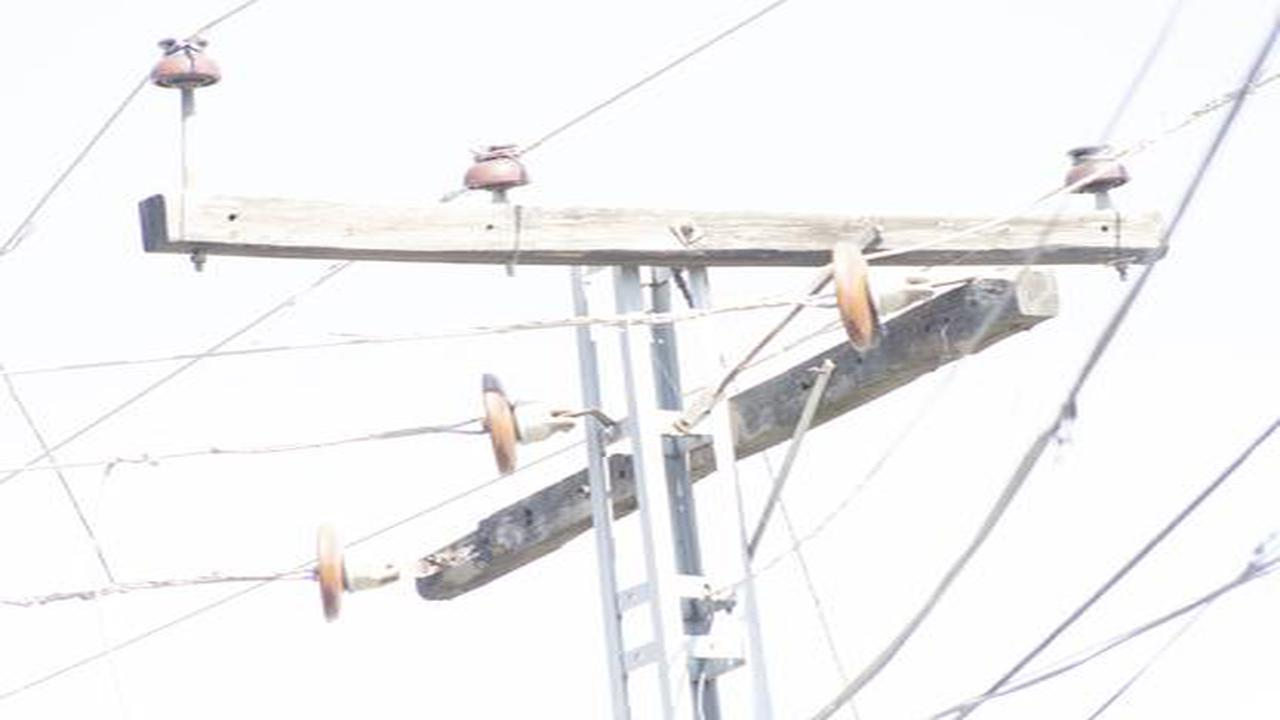insulator_disc: (825, 233, 914, 353), (474, 368, 551, 479), (311, 523, 385, 617)
insulator_pin: (150, 30, 222, 96), (1062, 137, 1127, 198), (461, 141, 532, 195)
